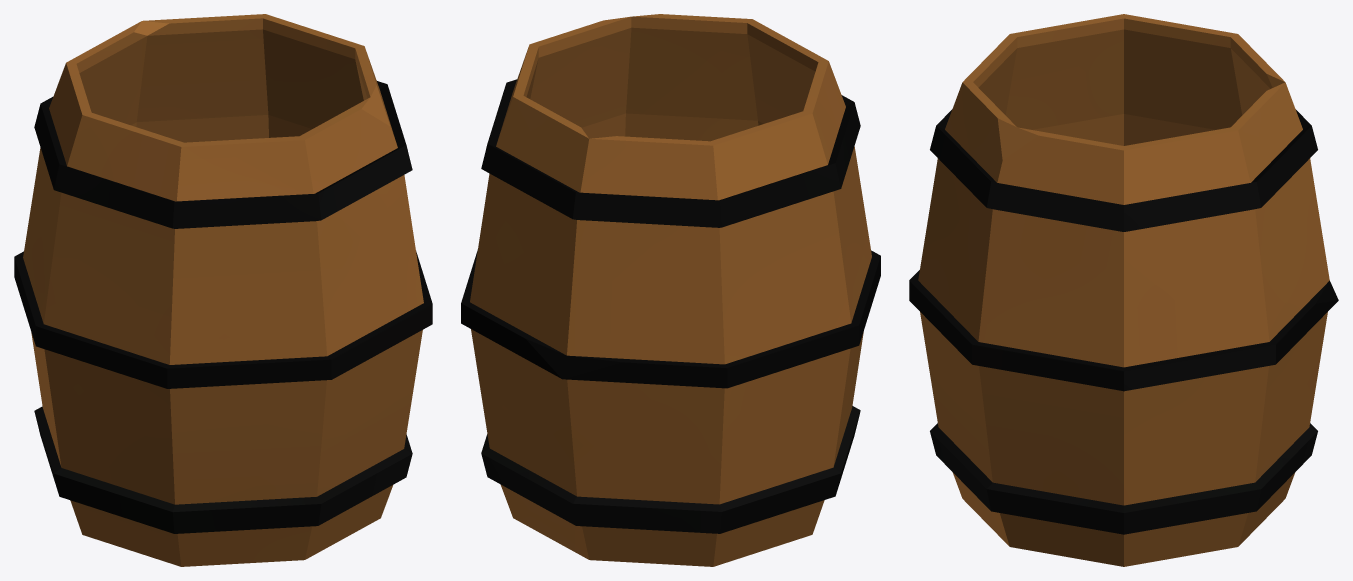
The model's file is Open_Barrel.fbx.
3 views of the same model, side by side, from view 1: azimuth 30°, elevation 25°; view 2: azimuth 150°, elevation 25°; view 3: azimuth 270°, elevation 25° (orthographic).
Parts seen in each view (by area): view 1: Open Barrel; view 2: Open Barrel; view 3: Open Barrel.
Part boxes in pixels (x1,y1,x2,y2): Open Barrel: (14, 14, 432, 566); Open Barrel: (461, 14, 880, 566); Open Barrel: (909, 14, 1338, 566).
Size of the model in its own units: 47.01 by 50.28 by 47.01.
